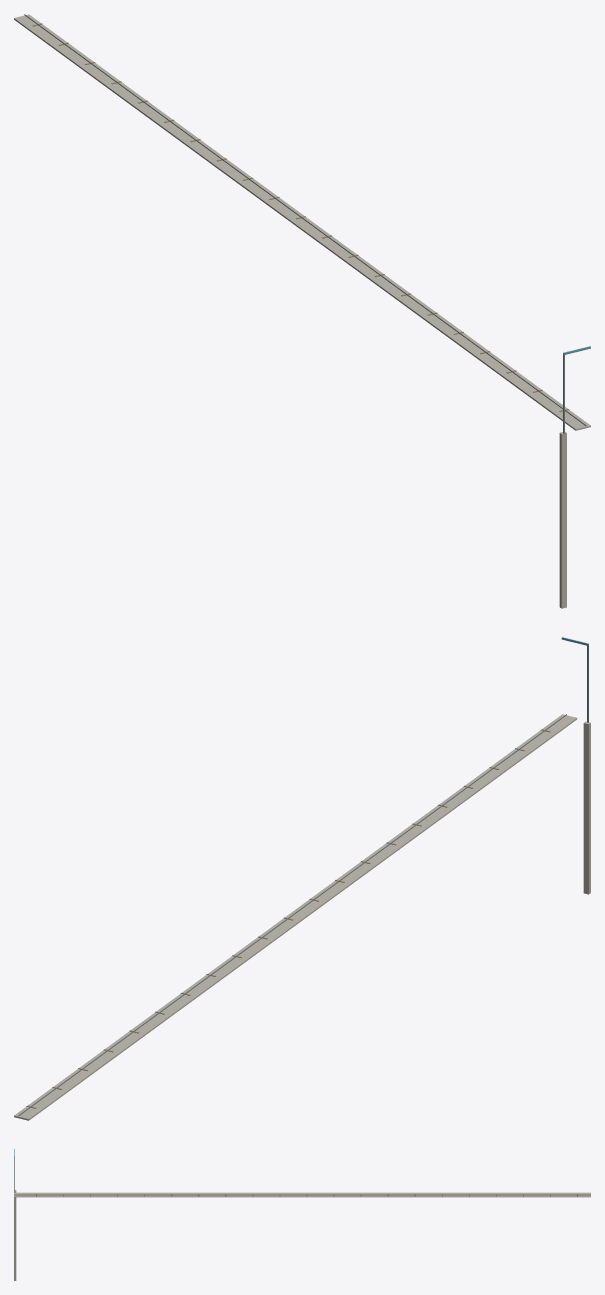
Rendered from valley-7-6.glb.
3 renders of one model, top to bottom at view 1: azimuth 30°, elevation 25°; view 2: azimuth 150°, elevation 25°; view 3: azimuth 270°, elevation 25°, orthographic. The views are drawn at different scales.
Parts seen in each view (by area): view 1: valley-7-6; view 2: valley-7-6; view 3: valley-7-6.
Part boxes in pixels (<box>): valley-7-6: <box>14,14,590,608</box>; valley-7-6: <box>14,637,590,1120</box>; valley-7-6: <box>14,1149,590,1280</box>.
Bounding box in the file's own units: 7.7 × 64.1 × 256.
